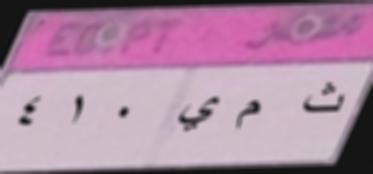0: (110, 99, 144, 132)
1: (61, 90, 94, 129)
4: (15, 88, 46, 136)
meem: (230, 98, 267, 136)
thaa: (301, 77, 348, 120)
yaa: (176, 89, 220, 137)
